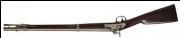gun: (2, 3, 178, 34)
